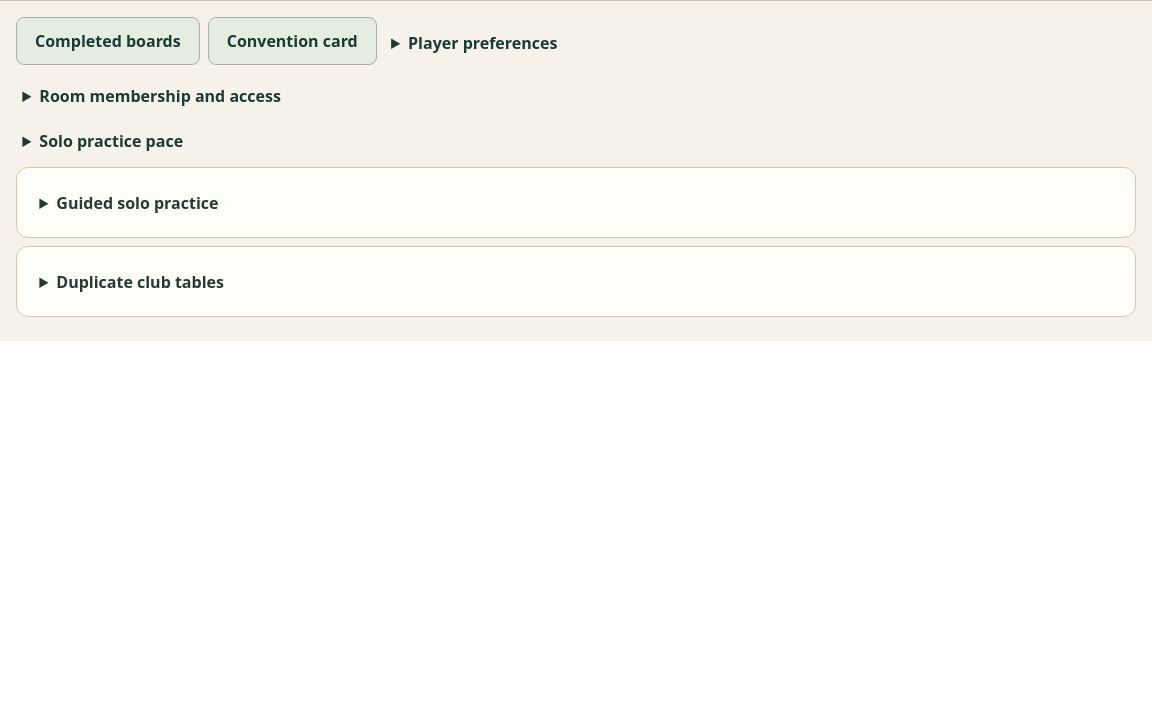
private invitation administration › shows server expiry/ID, allows custom lifetime and revokes a saved older ID
The image size is (1152, 720).
Click the heading "Room membership and access": (160, 96) [39,85,281,107]
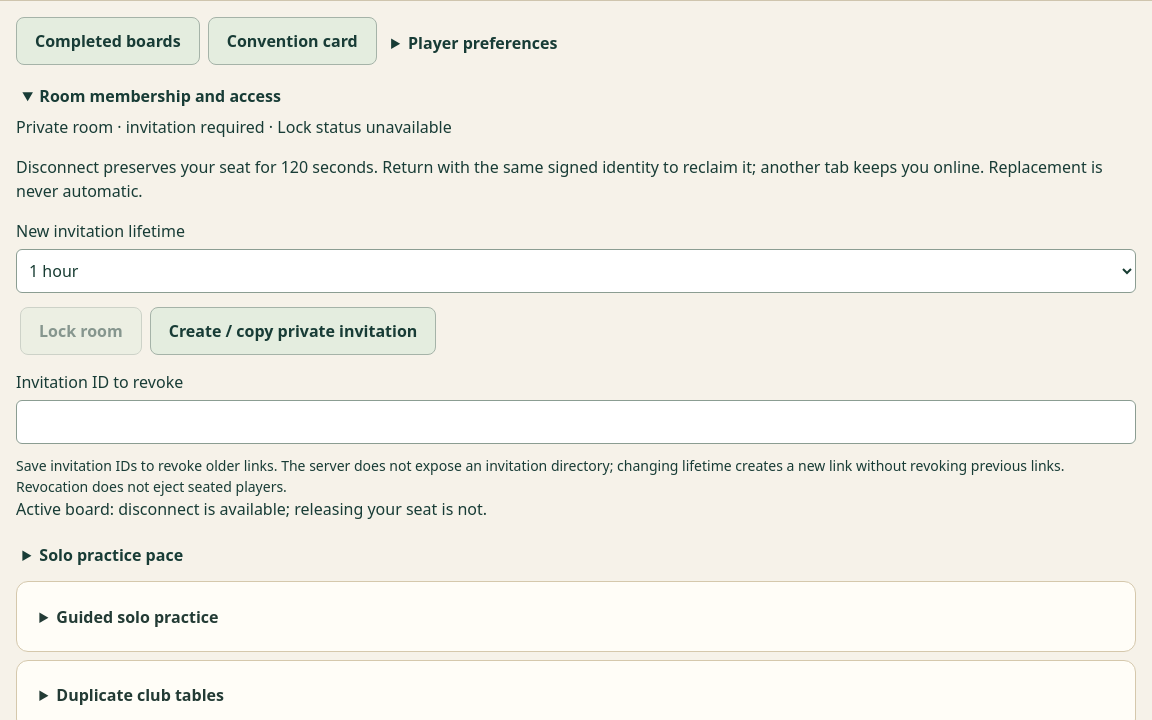
Select "1 minute" in the dropdown labelled "New invitation lifetime": (576, 271) [16,249,1136,293]
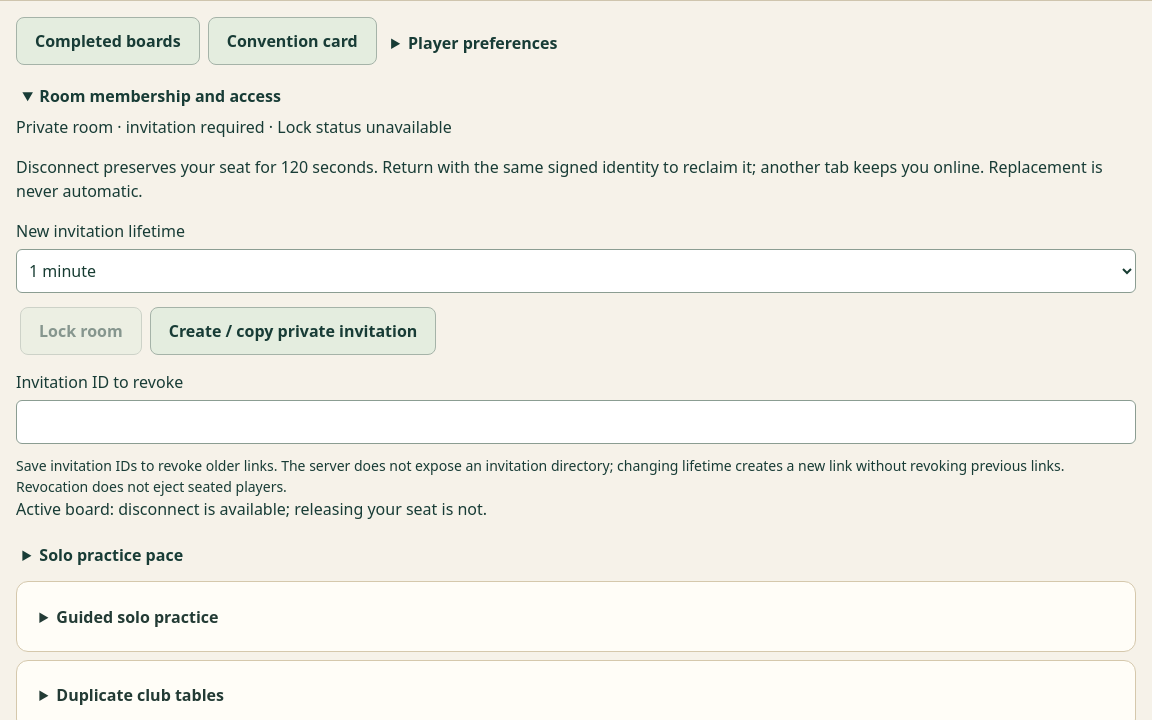
Click the button "Create / copy private invitation": (293, 331) [150,307,436,355]
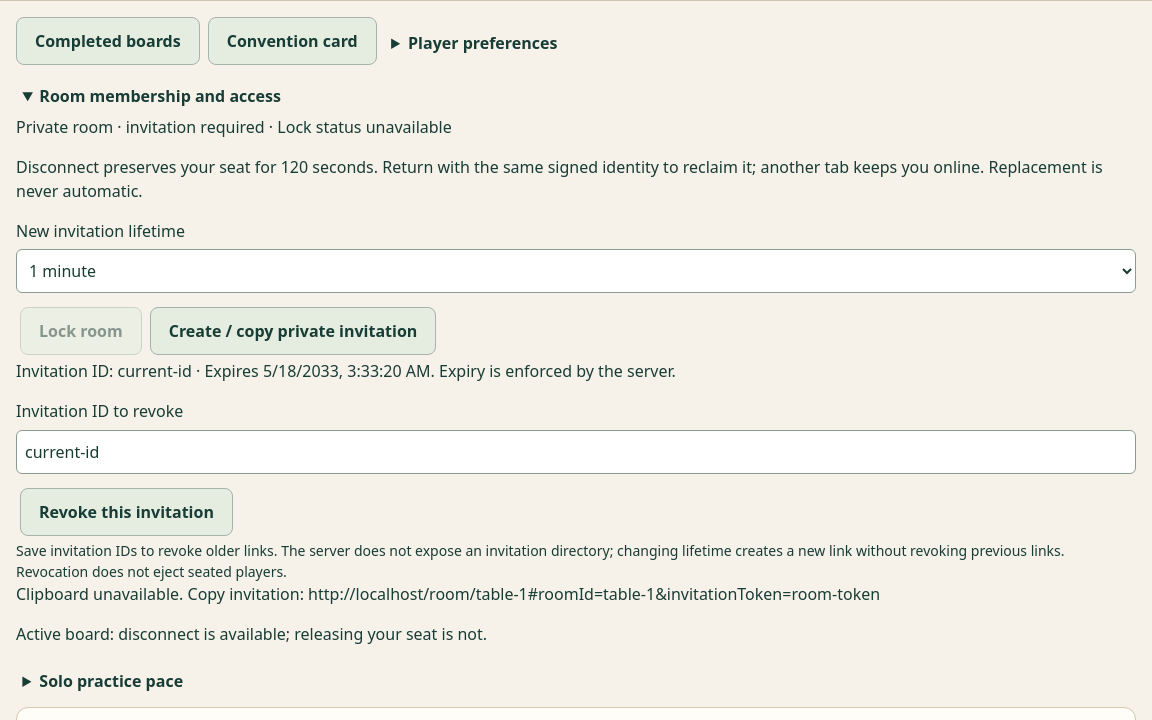
Now the text "Invitation ID: current-id" is shown, box [16,360,676,382]
Replace the text in the field labelled "Invitation ID to revoke" with "saved-older-id": (576, 452) [16,430,1136,474]
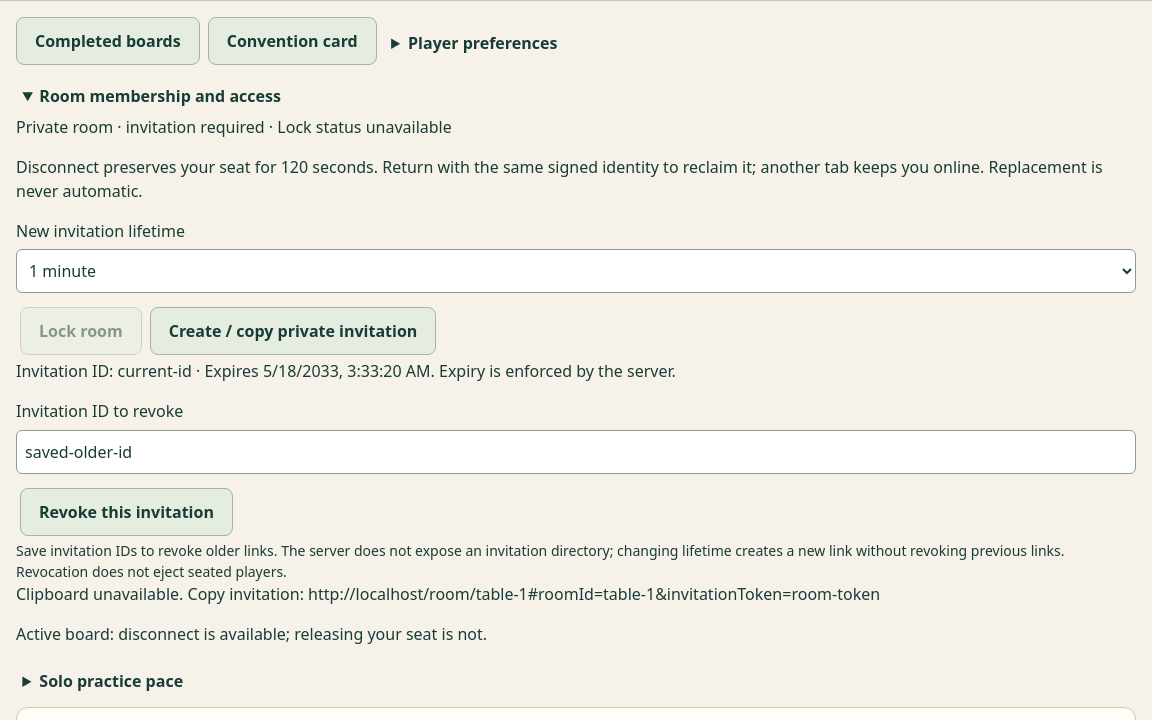
Click the button "Revoke this invitation": (126, 512) [20,488,233,536]
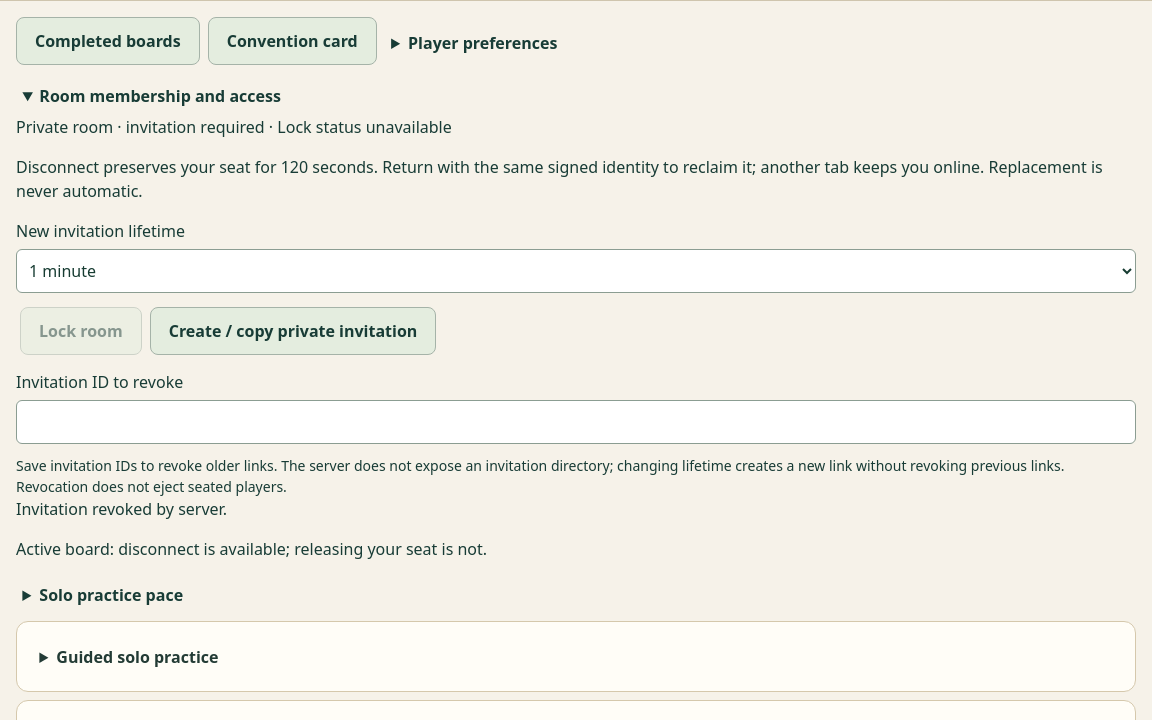
Now the text "Invitation revoked by server." is shown, box [16,498,227,520]
